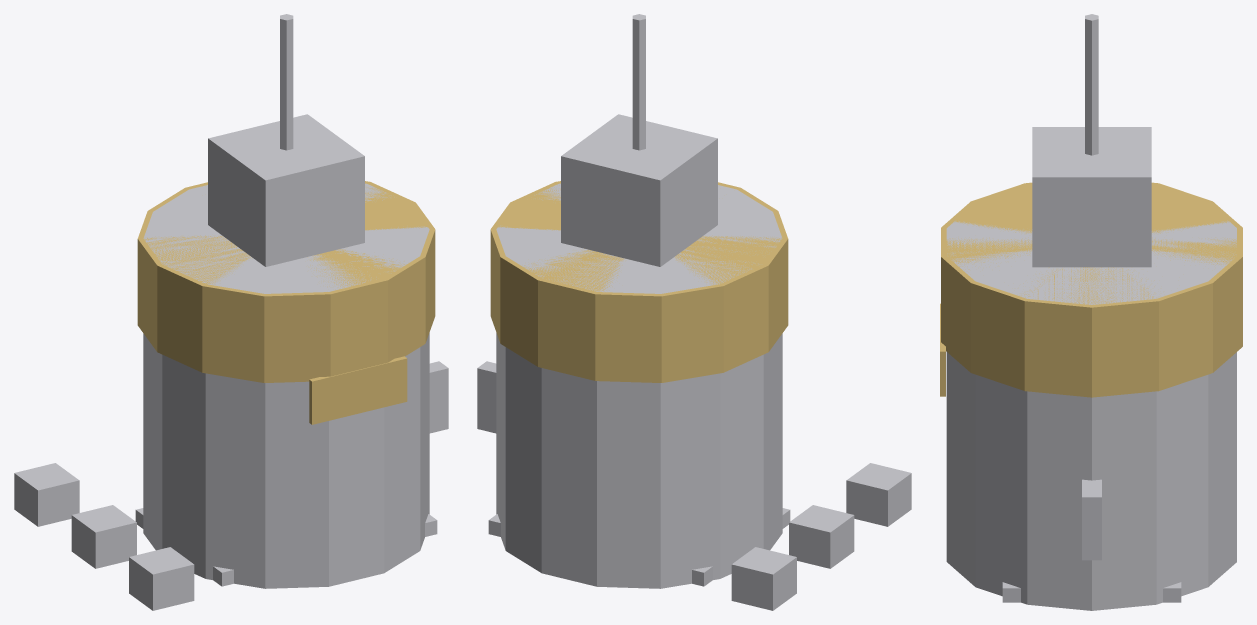
The model's file is mars-ares.gltf.
3 views of the same model, side by side, from view 1: azimuth 30°, elevation 25°; view 2: azimuth 150°, elevation 25°; view 3: azimuth 270°, elevation 25° (orthographic). The views are drawn at different scales.
Parts seen in each view (by area): view 1: mars-ares, gold; view 2: mars-ares, gold; view 3: mars-ares, gold.
Boxes of the visible parts, x1,y1,x2,y2 form: mars-ares: (14,14,448,610); gold: (137,181,435,424); mars-ares: (477,14,911,610); gold: (490,181,788,382); mars-ares: (946,14,1236,610); gold: (940,182,1242,397).
Bounding box in the file's own units: 4.35 × 5.9 × 3.05.
